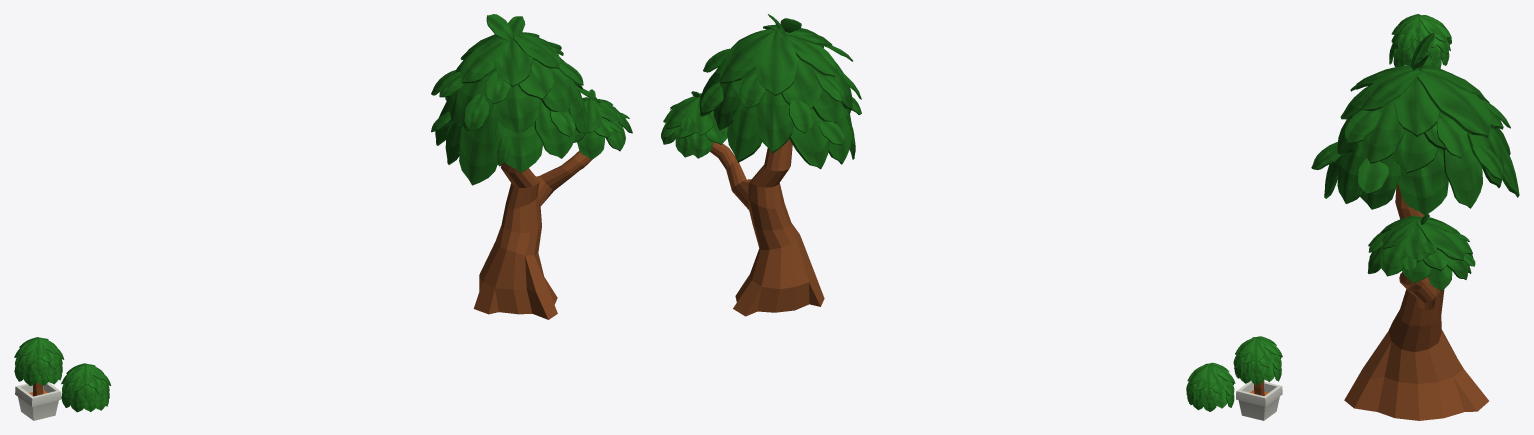
Rendered from TreeBushes.fbx.
The picture shows the model from 3 angles, left to right: view 1: azimuth 30°, elevation 25°; view 2: azimuth 150°, elevation 25°; view 3: azimuth 270°, elevation 25°; orthographic projection. The views are drawn at different scales.
Parts seen in each view (by area): view 1: Arvore, ArbustoVaso, Arbusto; view 2: Arvore, ArbustoVaso, Arbusto; view 3: Arvore, ArbustoVaso.
Boxes of the visible parts, left/top/right/bottom form: Arvore: left=431, top=14, right=632, bottom=319; ArbustoVaso: left=14, top=337, right=64, bottom=420; Arbusto: left=61, top=363, right=111, bottom=412; Arvore: left=661, top=14, right=861, bottom=316; ArbustoVaso: left=1233, top=336, right=1282, bottom=420; Arbusto: left=1186, top=362, right=1235, bottom=411; Arvore: left=1311, top=32, right=1519, bottom=420; ArbustoVaso: left=1389, top=14, right=1451, bottom=68.
Size of the model in its own units: 1217 by 546 by 290.
